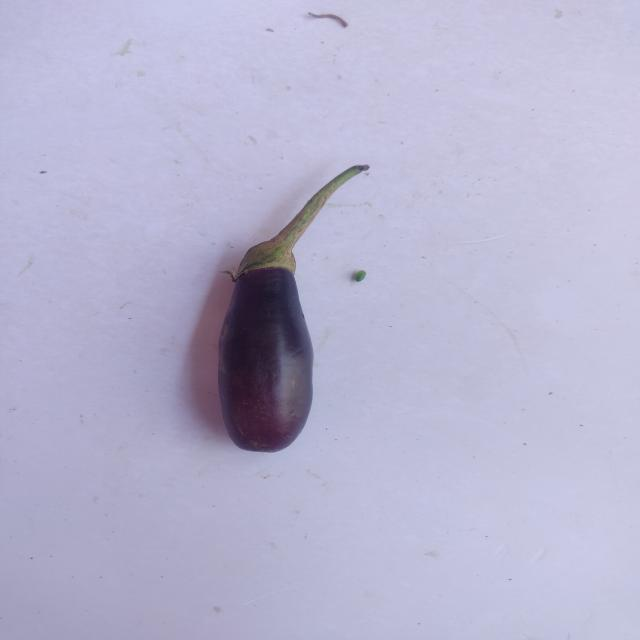Brinjal: (205, 156, 376, 462)
